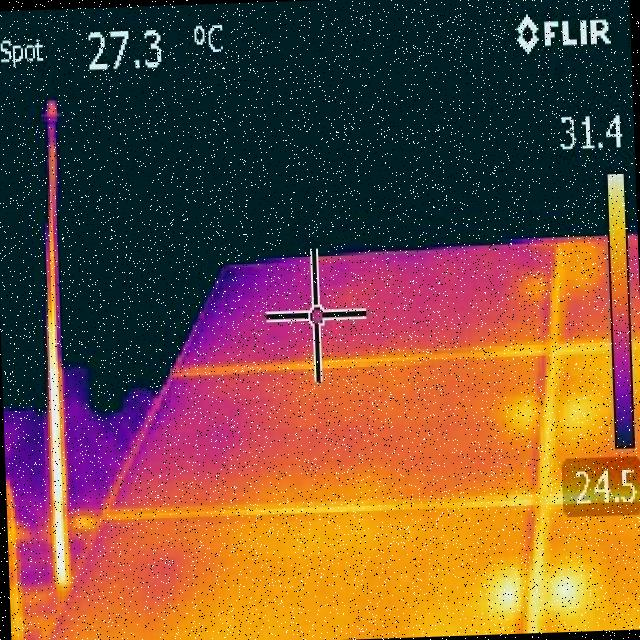Hotspot: (545, 562, 596, 622), (485, 556, 531, 622)
